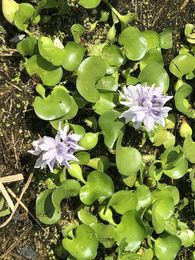water_hyacinth: (1, 0, 195, 260)
